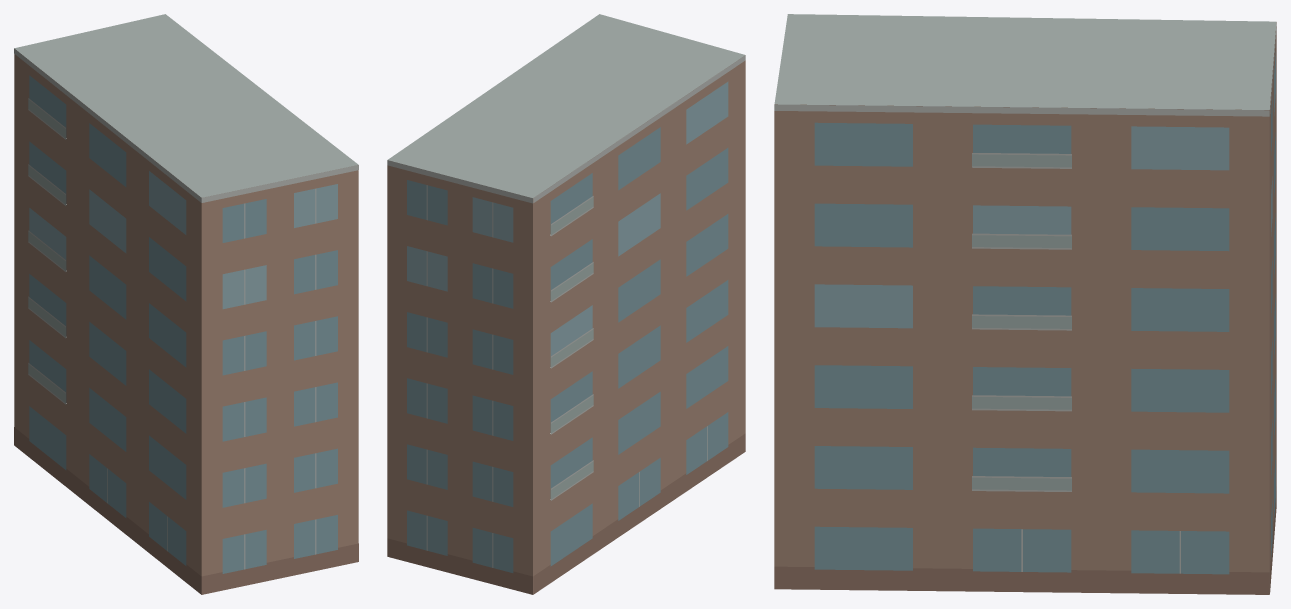
File: survey-upis-32542732.glb
3 views of the same model, side by side, from view 1: azimuth 30°, elevation 25°; view 2: azimuth 150°, elevation 25°; view 3: azimuth 270°, elevation 25° (orthographic). The views are drawn at different scales.
Visible parts, largest first — view 1: survey-upis-32542732.tmp; view 2: survey-upis-32542732.tmp; view 3: survey-upis-32542732.tmp.
Boxes of the visible parts, left/top/right/bottom form: survey-upis-32542732.tmp: left=14, top=14, right=358, bottom=594; survey-upis-32542732.tmp: left=387, top=14, right=745, bottom=594; survey-upis-32542732.tmp: left=774, top=14, right=1276, bottom=594.
Size of the model in its own units: 7.79 by 18.3 by 17.19.
